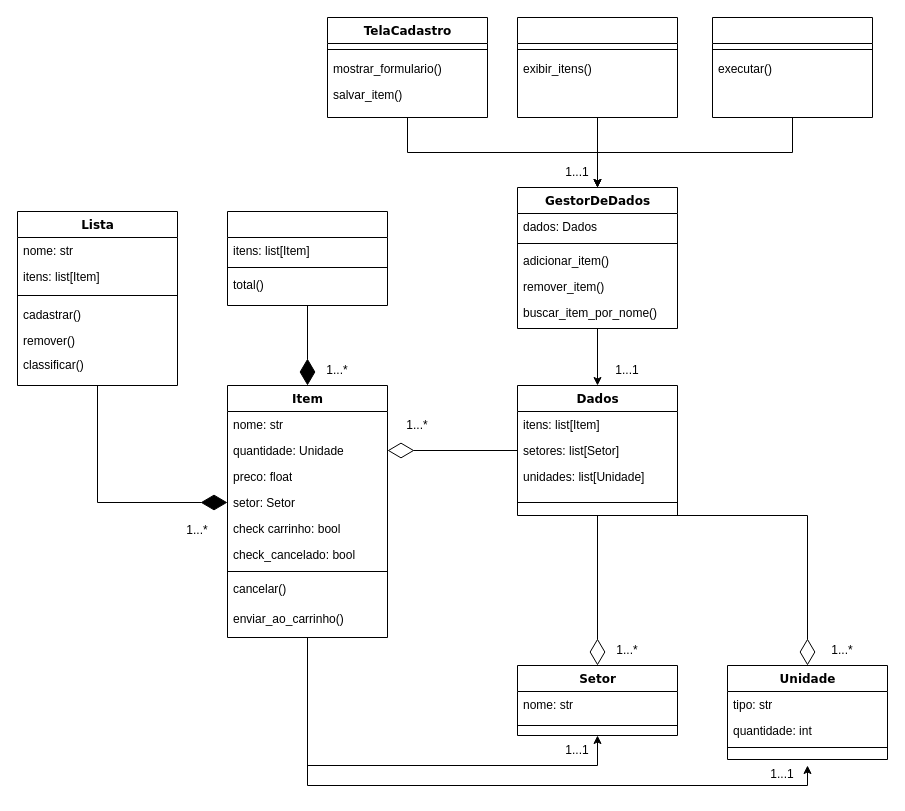
The diagram is 905 pixels wide and 811 high, and some of its shapes have lost their labels. The box of each missing label's shape, as (x1, y1, x2, y2) in pixels:
Carrinho: (226, 210, 388, 306)
MenuPrincipal: (712, 16, 872, 118)
TelaLista: (516, 16, 678, 118)
